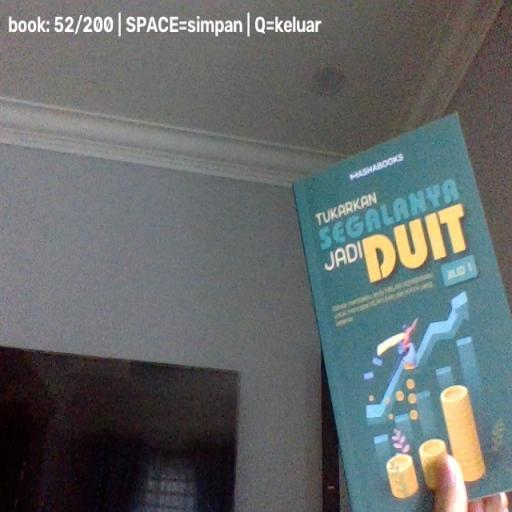Book: (292, 114, 512, 512)
